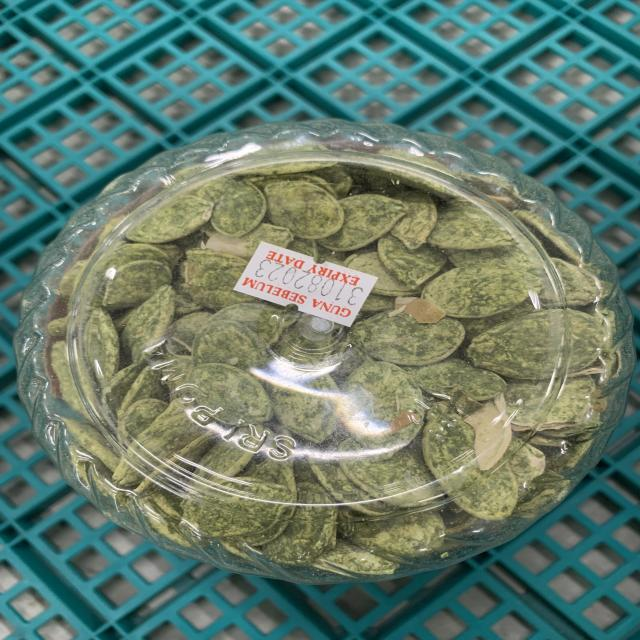object_name: (36, 162, 624, 552)
